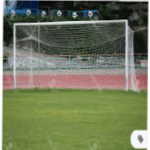goals: (11, 19, 139, 93)
